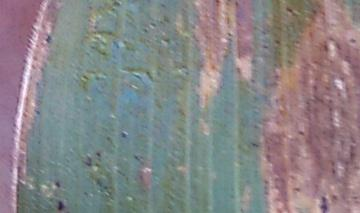tarspot: (316, 191, 329, 213), (55, 198, 68, 213), (81, 155, 94, 168), (291, 184, 304, 197), (44, 29, 53, 47), (296, 127, 307, 140), (118, 130, 130, 141), (32, 106, 42, 118), (249, 140, 261, 150), (346, 36, 358, 45), (53, 178, 61, 191), (283, 6, 295, 14), (273, 38, 283, 47), (94, 150, 101, 159)
